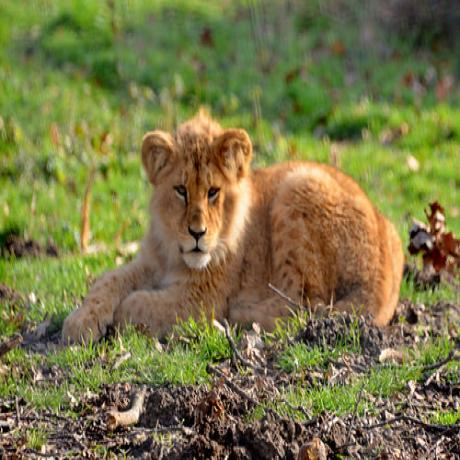Lion: (68, 110, 405, 358)
